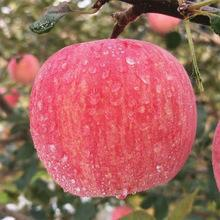apple: (29, 37, 196, 198)
